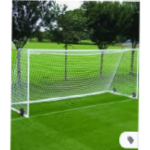goals: (12, 46, 138, 119)
